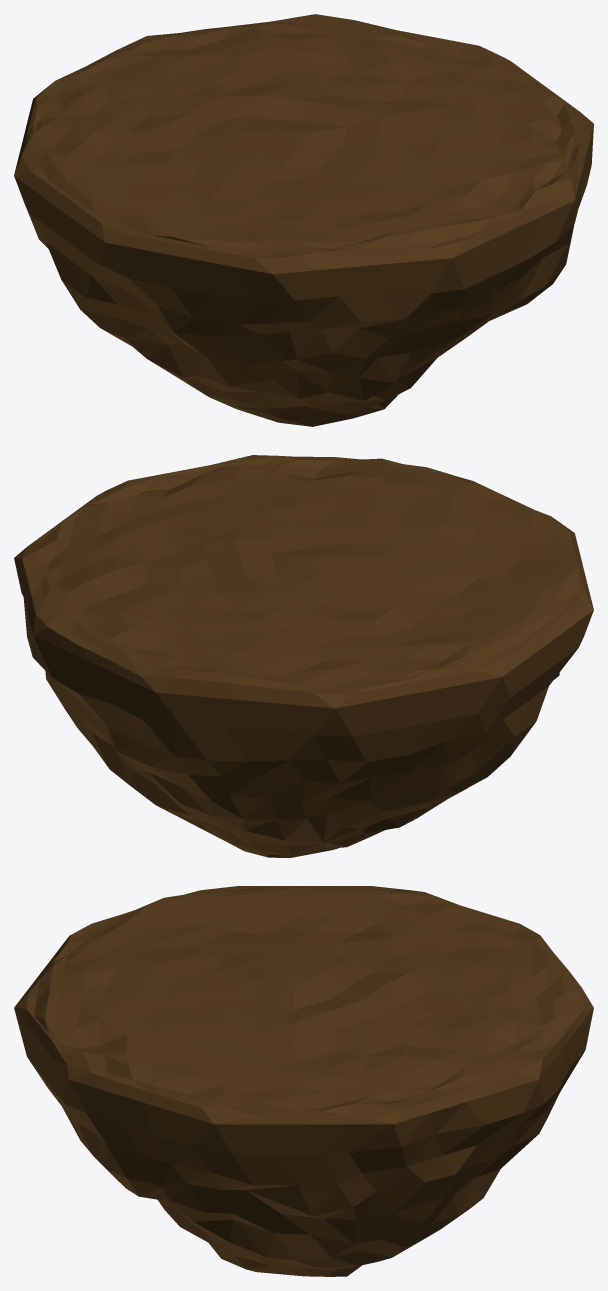
File: Island-Root.fbx
3 views of the same model, one above another, from view 1: azimuth 30°, elevation 25°; view 2: azimuth 150°, elevation 25°; view 3: azimuth 270°, elevation 25° (orthographic). The views are drawn at different scales.
Visible parts, largest first — view 1: Icosphere; view 2: Icosphere; view 3: Icosphere.
Part boxes in pixels (x1=…): Icosphere: x1=14, y1=14, x2=593, y2=426; Icosphere: x1=14, y1=455, x2=593, y2=857; Icosphere: x1=14, y1=886, x2=593, y2=1276.
Size of the model in its own units: 1265 by 725 by 1330.
